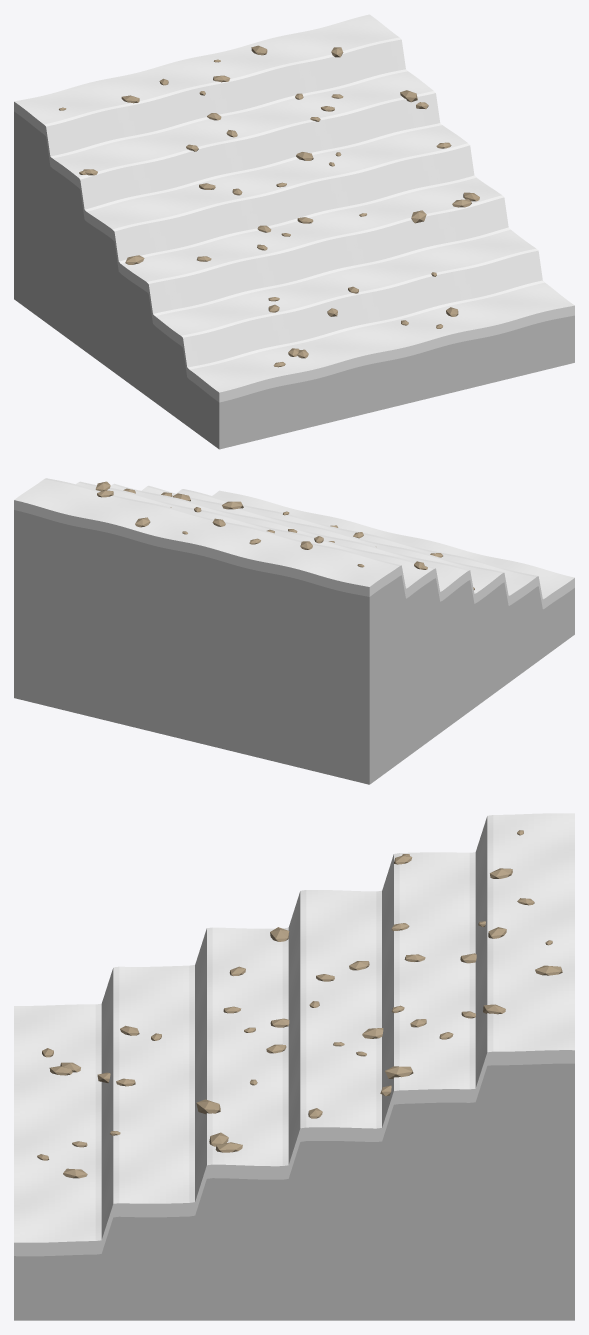
File: 崇岭阶.glb
3 views of the same model, one above another, from view 1: azimuth 30°, elevation 25°; view 2: azimuth 150°, elevation 25°; view 3: azimuth 270°, elevation 25° (orthographic). The views are drawn at different scales.
Parts seen in each view (by area): view 1: 01 Surface - sculptable grid, 02 Soil profile - topsoil and subsoil; view 2: 02 Soil profile - topsoil and subsoil, 01 Surface - sculptable grid; view 3: 01 Surface - sculptable grid, 02 Soil profile - topsoil and subsoil.
Boxes of the visible parts, left/top/right/bottom form: 01 Surface - sculptable grid: left=14, top=14, right=574, bottom=392; 02 Soil profile - topsoil and subsoil: left=14, top=102, right=574, bottom=449; 02 Soil profile - topsoil and subsoil: left=14, top=500, right=574, bottom=784; 01 Surface - sculptable grid: left=14, top=478, right=574, bottom=599; 01 Surface - sculptable grid: left=14, top=813, right=574, bottom=1242; 02 Soil profile - topsoil and subsoil: left=14, top=1050, right=574, bottom=1320.
Size of the model in its own units: 6 by 3.25 by 6.
